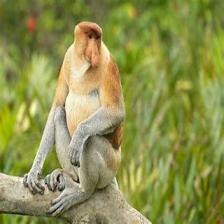monkey: (32, 16, 127, 200)
